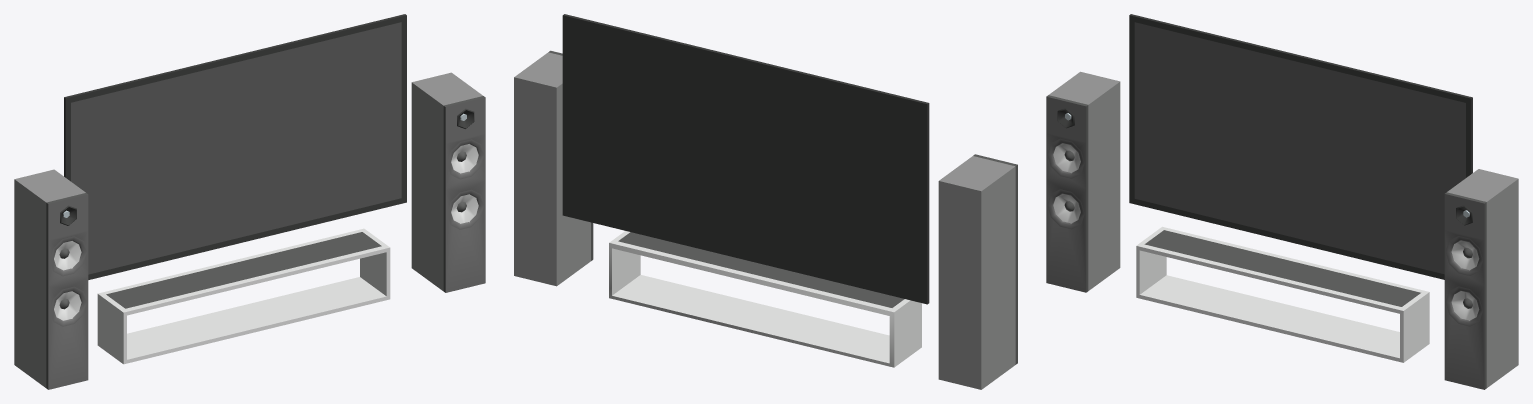
The model's file is SM_tv_wall_001.FBX.
The picture shows the model from 3 angles, left to right: view 1: azimuth 30°, elevation 25°; view 2: azimuth 150°, elevation 25°; view 3: azimuth 330°, elevation 25°; orthographic projection. The views are drawn at different scales.
Visible parts, largest first — view 1: SM_tv_wall_001; view 2: SM_tv_wall_001; view 3: SM_tv_wall_001.
Boxes of the visible parts, left/top/right/bottom form: SM_tv_wall_001: left=14, top=14, right=485, bottom=389; SM_tv_wall_001: left=514, top=14, right=1017, bottom=389; SM_tv_wall_001: left=1046, top=14, right=1518, bottom=389.
Size of the model in its own units: 304 by 42.04 by 169.
